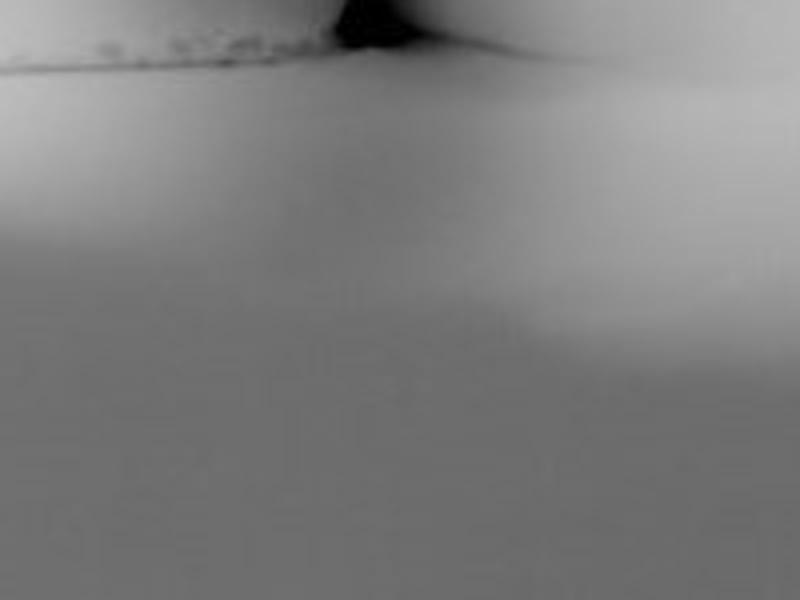defect: (337, 3, 420, 52)
